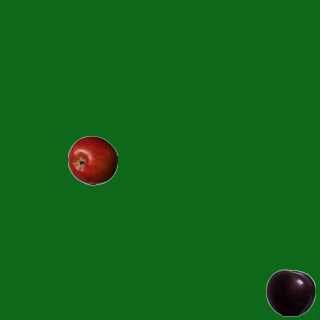Apple Braeburn: (67, 135, 117, 185)
Cherry Wax Black: (265, 267, 315, 317)
